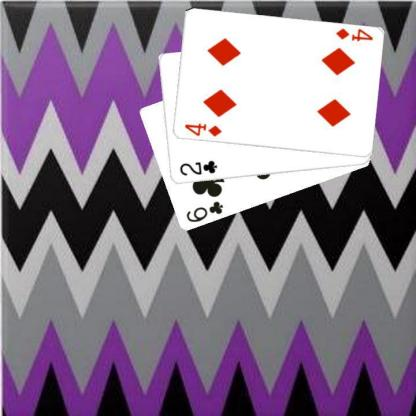2C: (177, 158, 218, 178)
4D: (182, 121, 223, 138), (333, 26, 374, 43)
6C: (183, 199, 224, 224)
